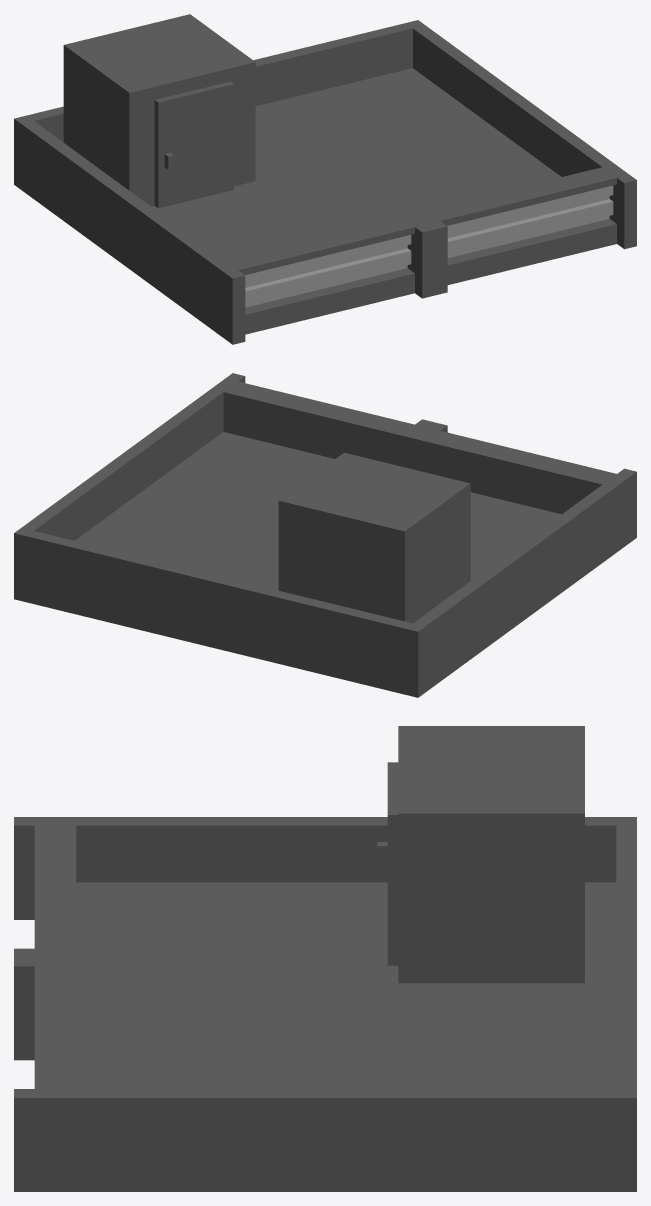
The model's file is bld_story04c.obj.
The picture shows the model from 3 angles, top to bottom: view 1: azimuth 30°, elevation 25°; view 2: azimuth 150°, elevation 25°; view 3: azimuth 270°, elevation 25°; orthographic projection. The views are drawn at different scales.
Size of the model in its own units: 64 by 22 by 60.
